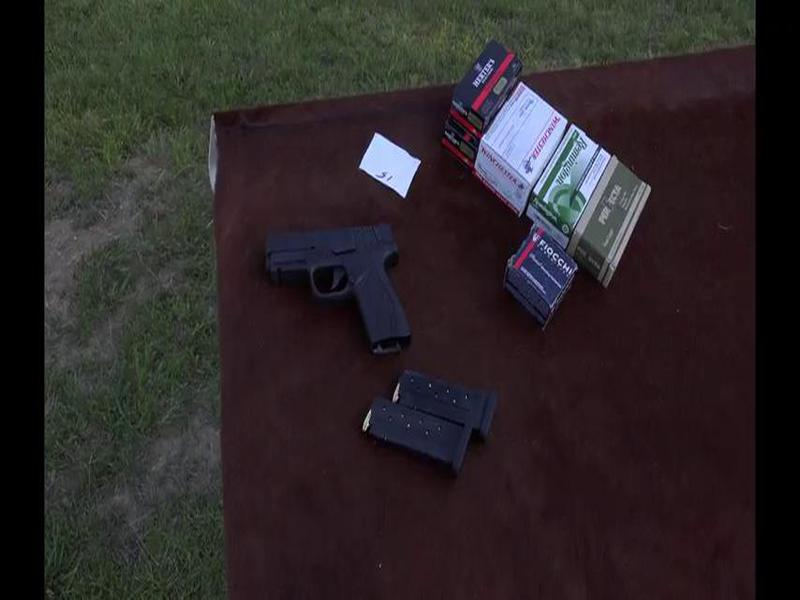Pistola: (247, 222, 427, 373)
